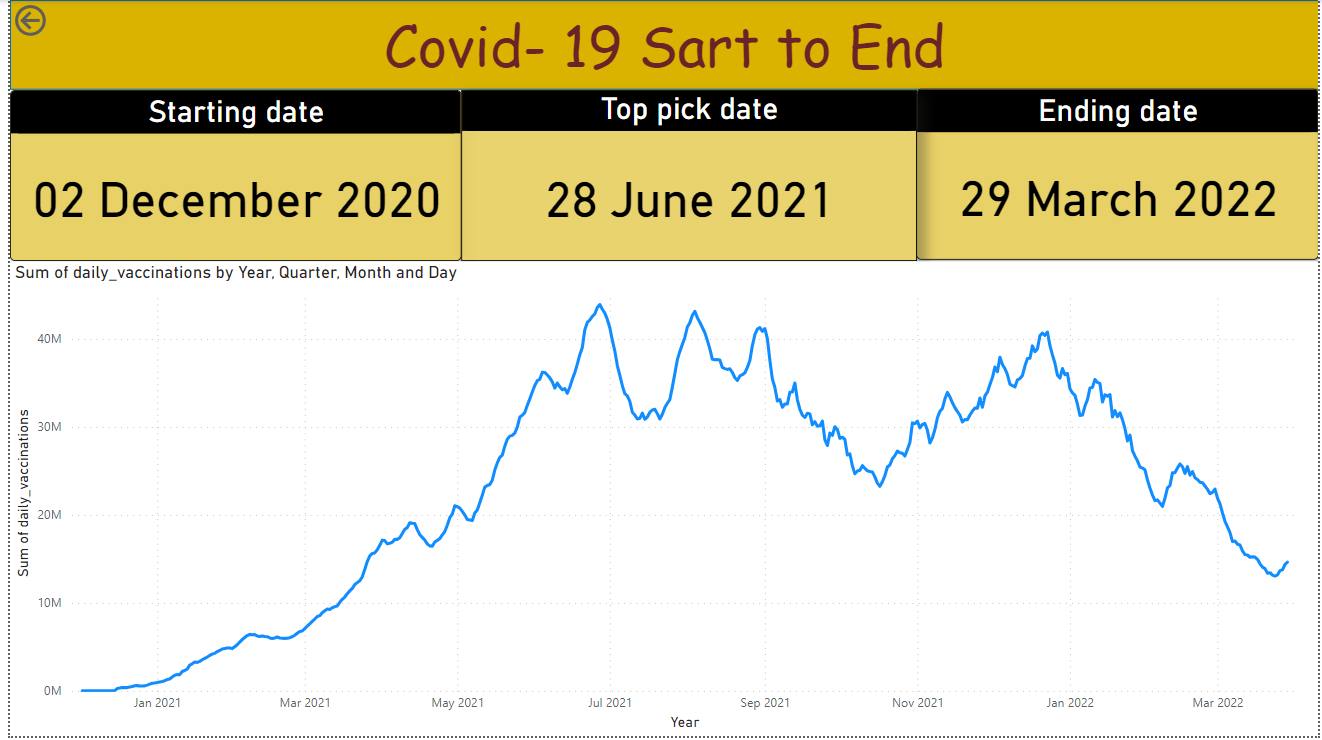

Layout of this report page (visuals, bound fields, positions):
{"tool":"powerbi","page":{"name":"Covid 19 journey","canvas":[1280,720],"ordinal":1},"visuals":[{"type":"card","title":"Starting date","fields":{"Values":["Min(country_vaccinations.date)"]},"box":[0,88.1,441.5,167.3],"z":0},{"type":"shape","box":[0,0,1280.6,87.7],"z":1000},{"type":"card","title":"Ending date","fields":{"Values":["Max(country_vaccinations.date)"]},"box":[886.8,86.8,393.7,167.3],"z":2000},{"type":"actionButton","box":[0,0,100,40],"z":3000},{"type":"card","title":"Top pick date ","fields":{"Values":["country_vaccinations.MaxDateForMaxDailyVaccination"]},"box":[441.5,88.1,445.3,167.3],"z":4000},{"type":"lineChart","fields":{"Y":["Sum(country_vaccinations.daily_vaccinations)"],"Category":["country_vaccinations.date.Variation.Date Hierarchy.Year","country_vaccinations.date.Variation.Date Hierarchy.Quarter","country_vaccinations.date.Variation.Date Hierarchy.Month","country_vaccinations.date.Variation.Date Hierarchy.Day"]},"box":[0,255.3,1280.5,464.2],"z":5000}]}

Visuals, with their boxes in screenshot pixels (x1, y1, x2, y2), scaled from the page's 1280x720 canvas onto the 1322x740 screenshot:
"Starting date" card: box=[0, 91, 456, 262]
shape: box=[0, 0, 1321, 90]
"Ending date" card: box=[916, 89, 1321, 261]
actionButton: box=[0, 0, 103, 41]
"Top pick date " card: box=[456, 91, 916, 262]
lineChart - Sum(country_vaccinations.daily_vaccinations) x country_vaccinations.date.Variation.Date Hierarchy.Year: box=[0, 262, 1321, 739]
